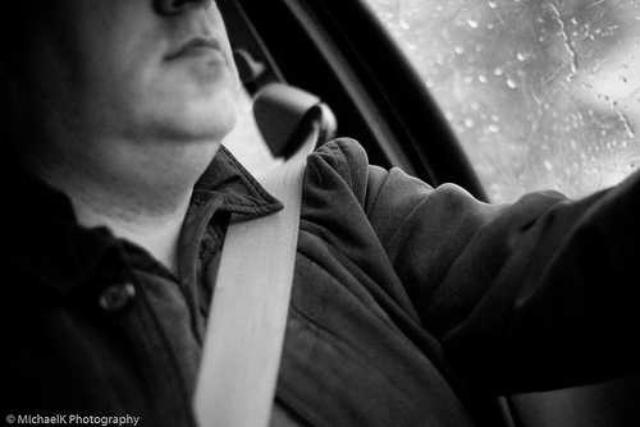Seatbelt: (188, 81, 336, 427)
